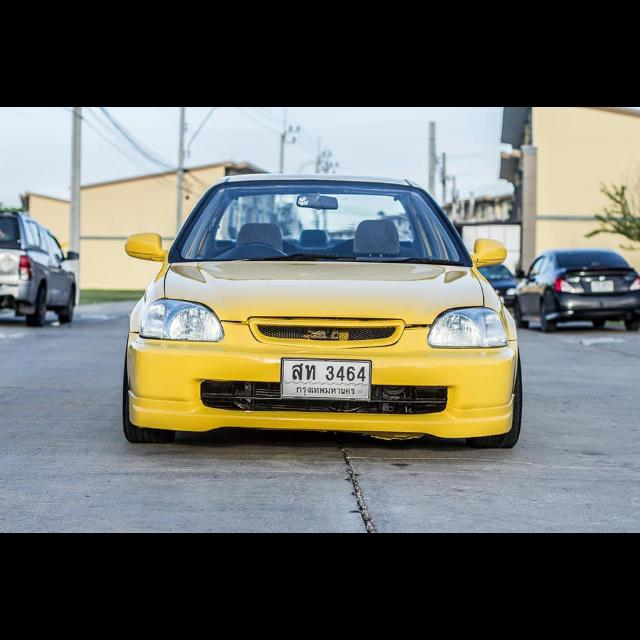cars: (120, 166, 528, 462)
